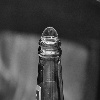beer: (33, 25, 63, 100)
